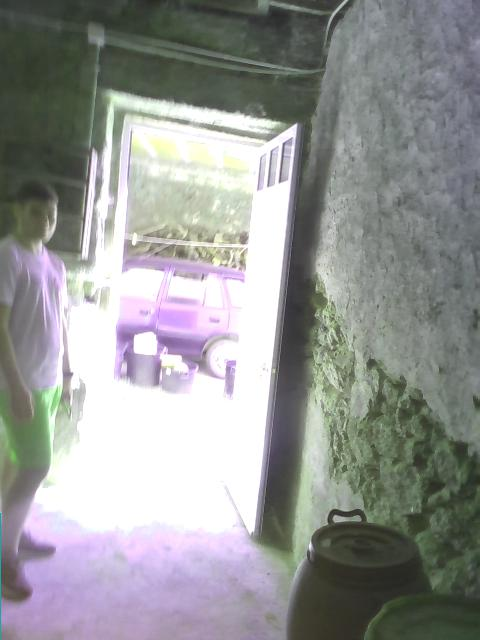open_door: (78, 85, 298, 494)
